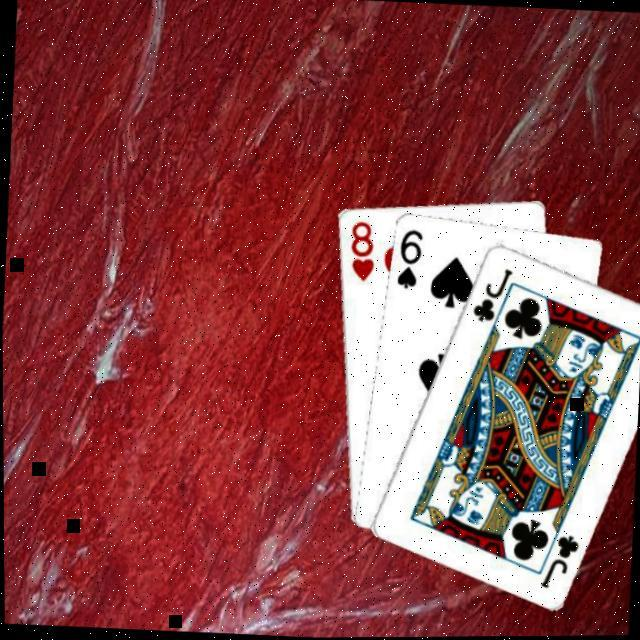6S: (393, 228, 426, 294)
8H: (345, 219, 378, 286)
JC: (469, 265, 516, 327), (536, 531, 582, 593)
